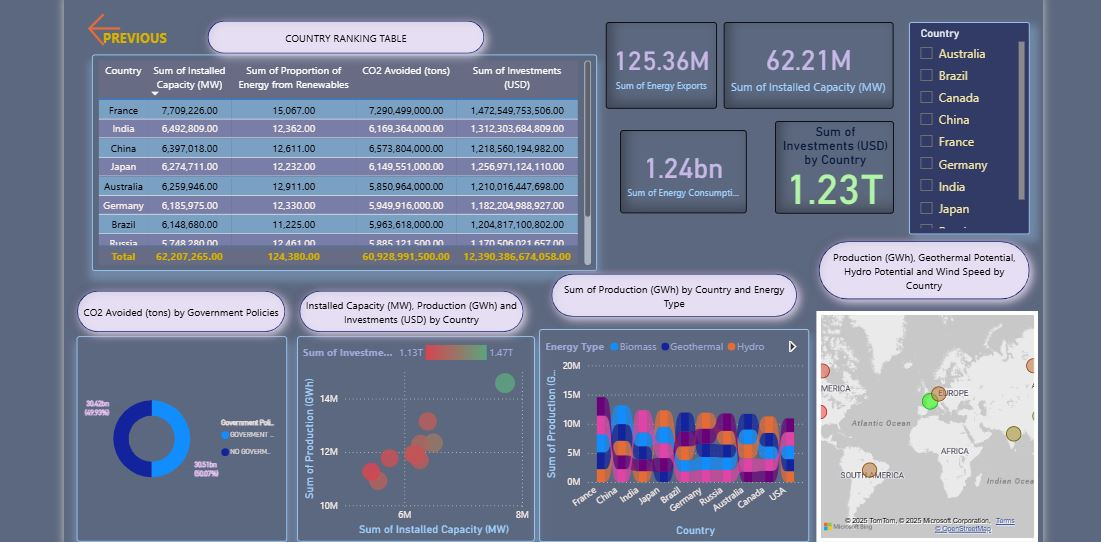

The page's visual inventory and layout, read from the dashboard file:
{"tool":"powerbi","page":{"name":"PERFORMANCE BY COUNTRY & ENERGY TYPE","canvas":[1280,720],"ordinal":3},"visuals":[{"type":"tableEx","fields":{"Values":["complete_renewable_energy_dataset.Country","Sum(complete_renewable_energy_dataset.Installed Capacity (MW))","Sum(complete_renewable_energy_dataset.Proportion of Energy from Renewables)","complete_renewable_energy_dataset.CO2 Avoided (tons)","Sum(complete_renewable_energy_dataset.Investments (USD))"]},"box":[36.8,76.1,661.4,283.4],"z":0},{"type":"ribbonChart","fields":{"Category":["complete_renewable_energy_dataset.Country"],"Series":["complete_renewable_energy_dataset.Energy Type"],"Y":["Sum(complete_renewable_energy_dataset.Production (GWh))"]},"box":[622.1,435.6,353.4,278.5],"z":1000},{"type":"scatterChart","fields":{"Category":["complete_renewable_energy_dataset.Country"],"X":["Sum(complete_renewable_energy_dataset.Installed Capacity (MW))"],"Size":["Sum(complete_renewable_energy_dataset.Investments (USD))"],"Y":["Sum(complete_renewable_energy_dataset.Production (GWh))"]},"box":[305.5,445.4,311.7,268.7],"z":2000},{"type":"slicer","fields":{"Values":["complete_renewable_energy_dataset.Country"]},"box":[1105.5,34.4,158.3,277.3],"z":3000},{"type":"card","fields":{"Values":["Sum(complete_renewable_energy_dataset.Installed Capacity (MW))"]},"box":[863.8,34.4,222.1,112.9],"z":4000},{"type":"card","fields":{"Values":["Sum(complete_renewable_energy_dataset.Energy Exports)"]},"box":[709.2,34.4,146,112.9],"z":5000},{"type":"card","fields":{"Values":["Sum(complete_renewable_energy_dataset.Energy Consumption)"]},"box":[727.6,175.5,165.6,109.2],"z":6000},{"type":"kpi","fields":{"TrendLine":["complete_renewable_energy_dataset.Country"],"Indicator":["Sum(complete_renewable_energy_dataset.Investments (USD))"]},"box":[930.1,163.2,155.8,121.5],"z":7000},{"type":"map","fields":{"Category":["complete_renewable_energy_dataset.Country"],"Size":["Sum(complete_renewable_energy_dataset.Production (GWh))"]},"box":[984.1,412.3,289.6,301.8],"z":8000},{"type":"donutChart","fields":{"Y":["complete_renewable_energy_dataset.CO2 Avoided (tons)"],"Category":["complete_renewable_energy_dataset.Government Policies","complete_renewable_energy_dataset.Political Stability"]},"box":[16,445.4,276.1,268.7],"z":9000},{"type":"shape","box":[171.8,16,393.9,74.8],"z":10000},{"type":"shape","box":[622.1,347.2,353.4,88.3],"z":11000},{"type":"shape","box":[292,369.3,325.2,85.9],"z":12000},{"type":"shape","box":[971.8,305.5,308,108],"z":13000},{"type":"shape","box":[1.2,369.3,304.3,85.9],"z":14000},{"type":"actionButton","box":[25.8,16,112.9,54],"z":15000}]}

Visuals, with their boxes on the page's 1280x720 design canvas (x1, y1, x2, y2). These are canvas units, not pixel positions in the 1101x542 screenshot, which may show the page scaled, cropped or inside an application window:
tableEx - complete_renewable_energy_dataset.Country x Sum(complete_renewable_energy_dataset.Installed Capacity (MW)): <box>37,76,698,360</box>
ribbonChart - complete_renewable_energy_dataset.Country x complete_renewable_energy_dataset.Energy Type: <box>622,436,976,714</box>
scatterChart - complete_renewable_energy_dataset.Country x Sum(complete_renewable_energy_dataset.Installed Capacity (MW)): <box>306,445,617,714</box>
slicer - complete_renewable_energy_dataset.Country: <box>1106,34,1264,312</box>
card - Sum(complete_renewable_energy_dataset.Installed Capacity (MW)): <box>864,34,1086,147</box>
card - Sum(complete_renewable_energy_dataset.Energy Exports): <box>709,34,855,147</box>
card - Sum(complete_renewable_energy_dataset.Energy Consumption): <box>728,176,893,285</box>
kpi - complete_renewable_energy_dataset.Country x Sum(complete_renewable_energy_dataset.Investments (USD)): <box>930,163,1086,285</box>
map - complete_renewable_energy_dataset.Country x Sum(complete_renewable_energy_dataset.Production (GWh)): <box>984,412,1274,714</box>
donutChart - complete_renewable_energy_dataset.CO2 Avoided (tons) x complete_renewable_energy_dataset.Government Policies: <box>16,445,292,714</box>
shape: <box>172,16,566,91</box>
shape: <box>622,347,976,436</box>
shape: <box>292,369,617,455</box>
shape: <box>972,306,1280,414</box>
shape: <box>1,369,306,455</box>
actionButton: <box>26,16,139,70</box>
